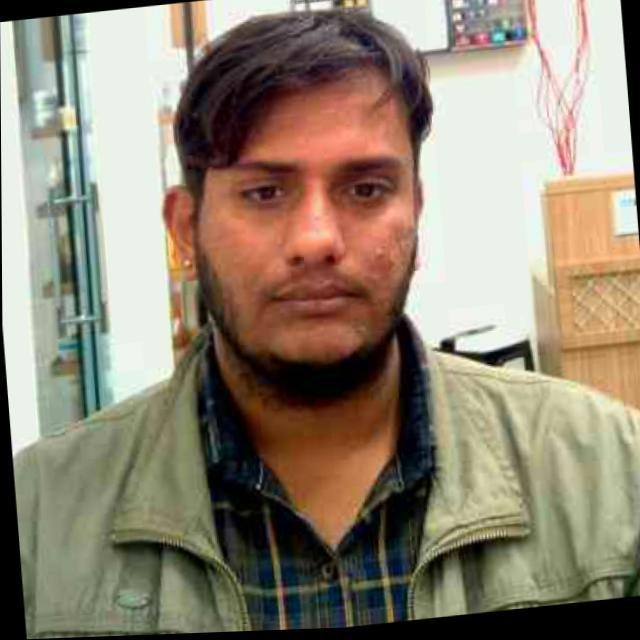Puffy Eyes - v3 Dark Circle: (360, 238, 392, 271)
